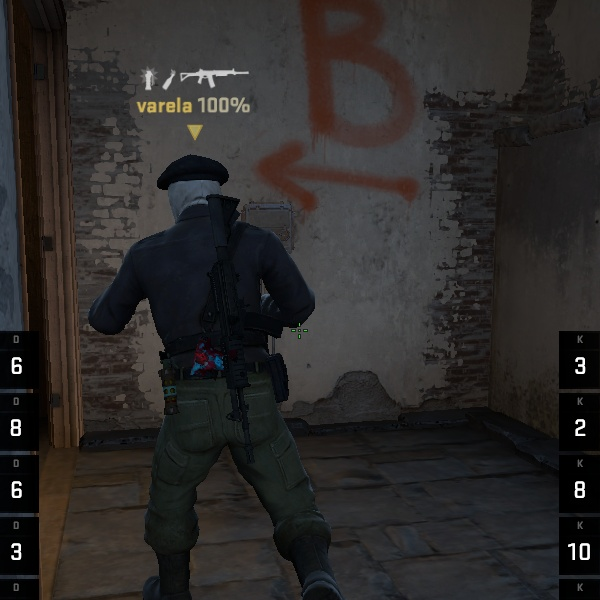ct_body: (93, 149, 351, 600)
ct_head: (139, 145, 253, 244)
